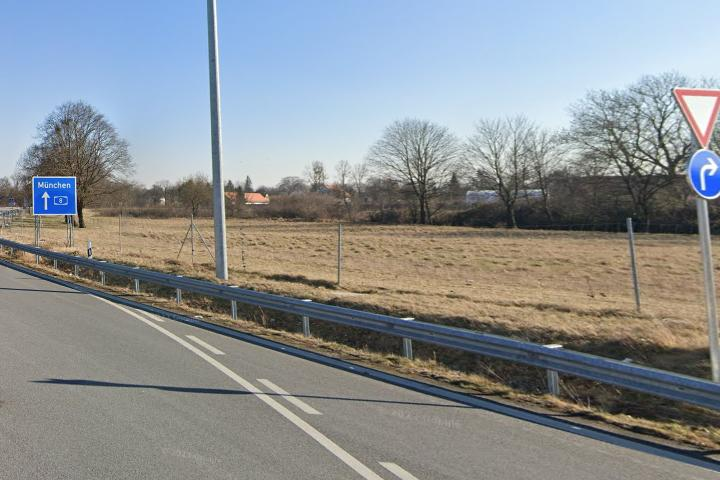traffic_sign: (673, 88, 720, 149), (687, 148, 720, 200)
